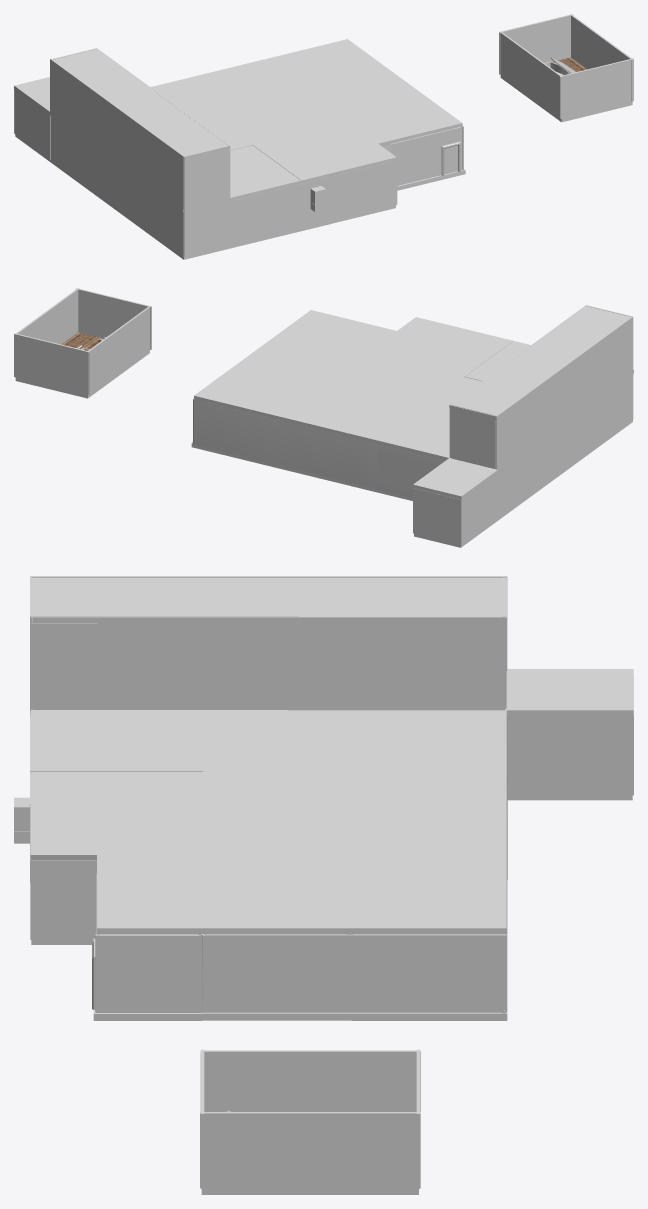
Rendered from NOESCAPEHOUSEUPDATEDforsam.fbx.
3 views of the same model, one above another, from view 1: azimuth 30°, elevation 25°; view 2: azimuth 150°, elevation 25°; view 3: azimuth 270°, elevation 25° (orthographic). The views are drawn at different scales.
Visible parts, largest first — view 1: Ceiling, Cube.057, Cube.115, Cube.078, Cube.203, Cube.080, Cube.064, Cube.200, Cube.155, Cube.202, Cube.201, Cube.087 (+6 smaller); view 2: Ceiling, Cube.057, Cube.115, Cube.076, Cube.202, Cube.084, Cube.200, Cube.113, Cube.203, Cube.055, Cube.033, Cube.201 (+4 smaller); view 3: Ceiling, Cube.024, Cube.115, Cube.201, Cube.035, Cube.200, Cube.061, Cube.086, Cube.044, Cube.085, Cube.001, Cube.159 (+5 smaller).
Boxes of the visible parts, x1,y1,x2,y2 form: Ceiling: (14, 39, 462, 212); Cube.057: (50, 58, 184, 257); Cube.115: (53, 48, 228, 156); Cube.078: (184, 145, 230, 256); Cube.203: (559, 58, 633, 118); Cube.080: (230, 184, 300, 245); Cube.064: (331, 160, 397, 220); Cube.200: (500, 32, 562, 118); Cube.155: (391, 127, 462, 185); Cube.202: (499, 14, 572, 74); Cube.201: (571, 15, 633, 101); Cube.087: (15, 90, 50, 159); Ceiling: (194, 310, 633, 499); Cube.057: (495, 316, 633, 517); Cube.115: (449, 306, 630, 419); Cube.076: (194, 399, 284, 466); Cube.202: (14, 333, 89, 394); Cube.084: (285, 421, 349, 482); Cube.200: (86, 306, 150, 394); Cube.113: (450, 404, 496, 469); Cube.203: (76, 288, 151, 349); Cube.055: (414, 488, 462, 544); Cube.033: (377, 444, 445, 497); Cube.201: (14, 288, 78, 377); Ceiling: (30, 669, 633, 934); Cube.024: (287, 618, 505, 710); Cube.115: (31, 577, 506, 623); Cube.201: (200, 1112, 420, 1188); Cube.035: (33, 615, 201, 709); Cube.200: (200, 1050, 420, 1111); Cube.061: (351, 934, 507, 1012); Cube.086: (204, 934, 351, 1012); Cube.044: (507, 715, 633, 795); Cube.085: (95, 934, 204, 1012); Cube.001: (200, 615, 298, 709); Cube.159: (30, 860, 96, 939).
Size of the model in its own units: 25620 by 5135 by 15468.
